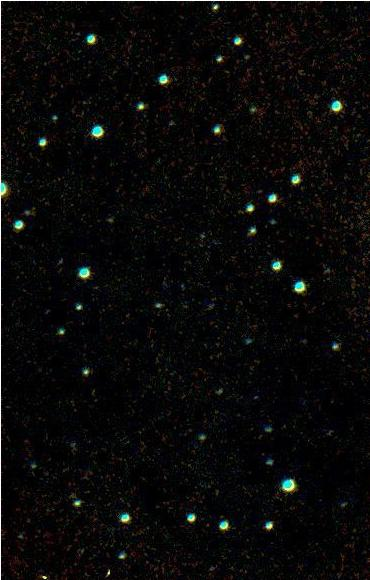star: (27, 559, 57, 580)
